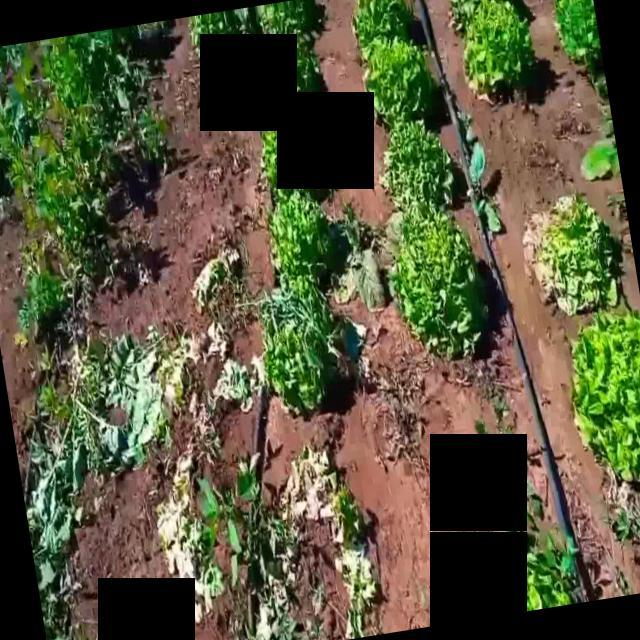Lettuce: (389, 208, 490, 362), (567, 308, 640, 488), (528, 194, 624, 318), (256, 274, 332, 412), (267, 190, 341, 288), (462, 0, 533, 94), (364, 36, 434, 126), (384, 121, 454, 210), (518, 538, 586, 623), (186, 6, 248, 65), (554, 0, 597, 75), (247, 0, 318, 43), (353, 0, 418, 43), (285, 37, 330, 95), (256, 128, 284, 194)
